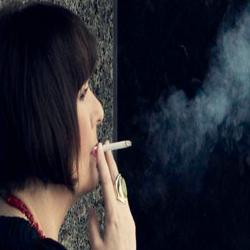smoking: (90, 139, 133, 159)
